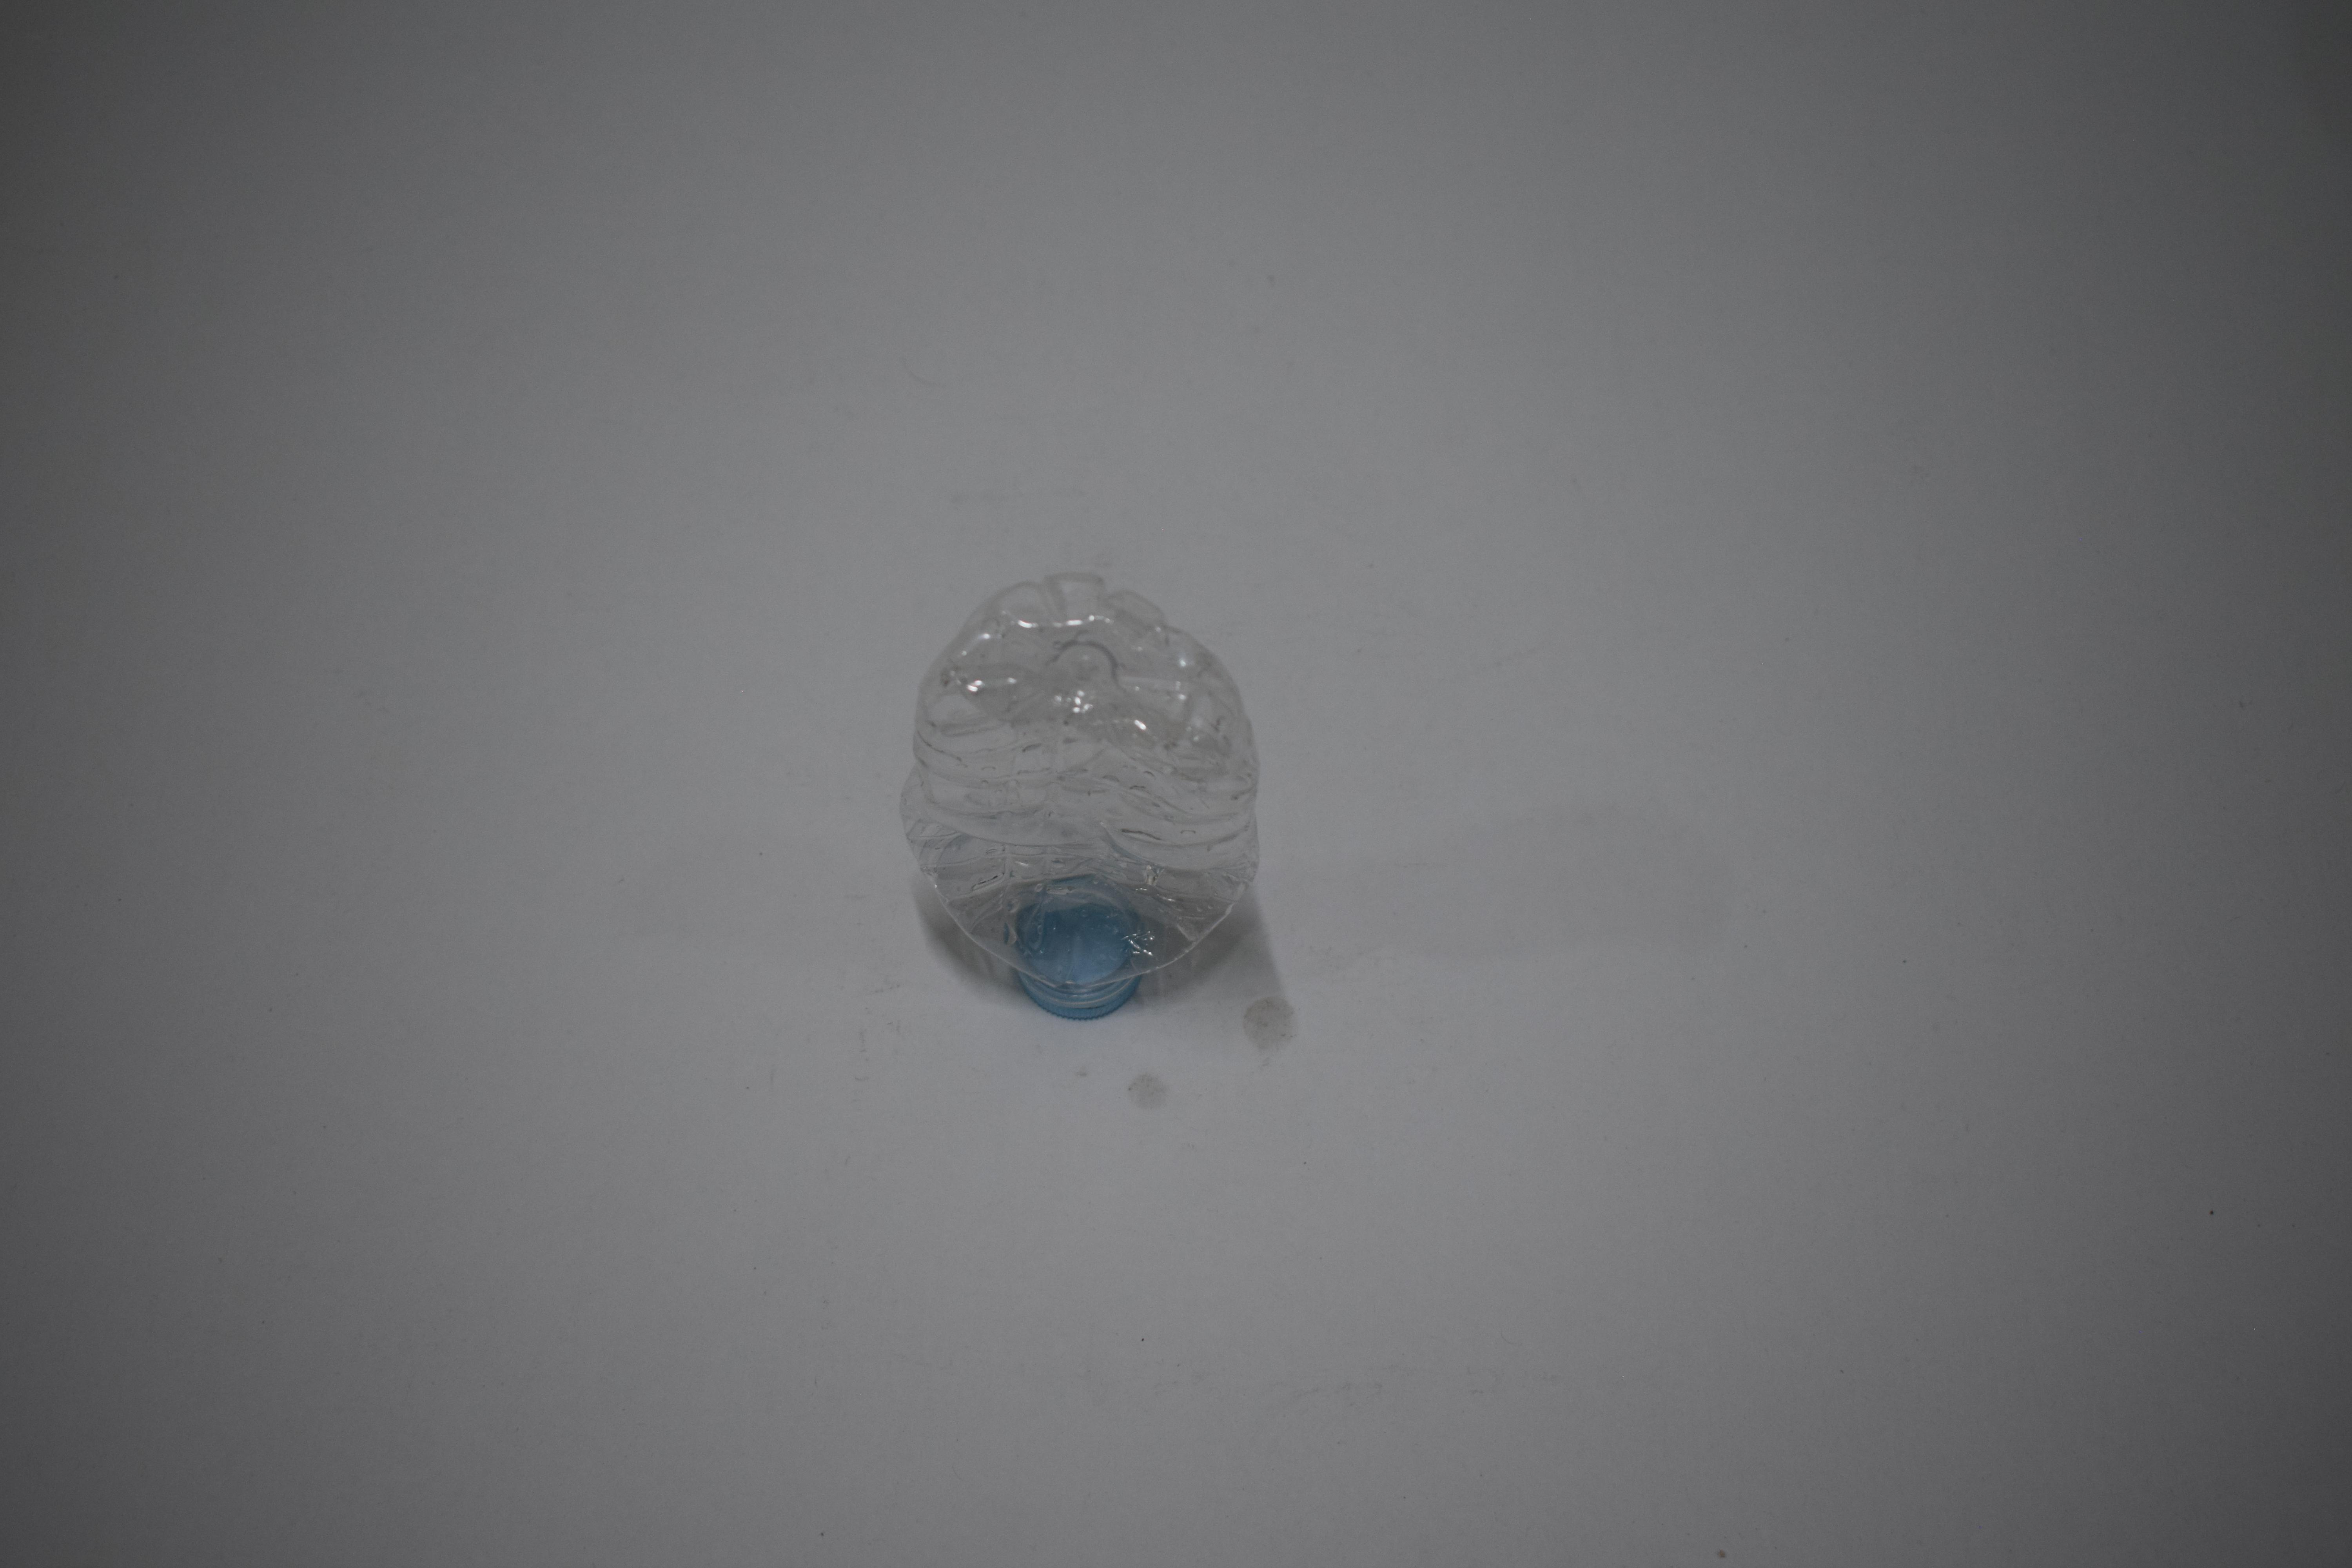bottle: (966, 541, 1202, 1022)
